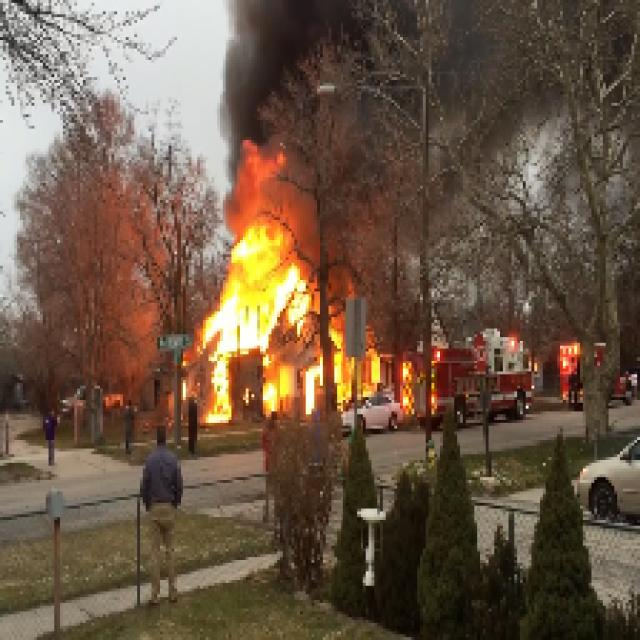fire: (206, 208, 310, 373)
smoke: (236, 14, 294, 86)
